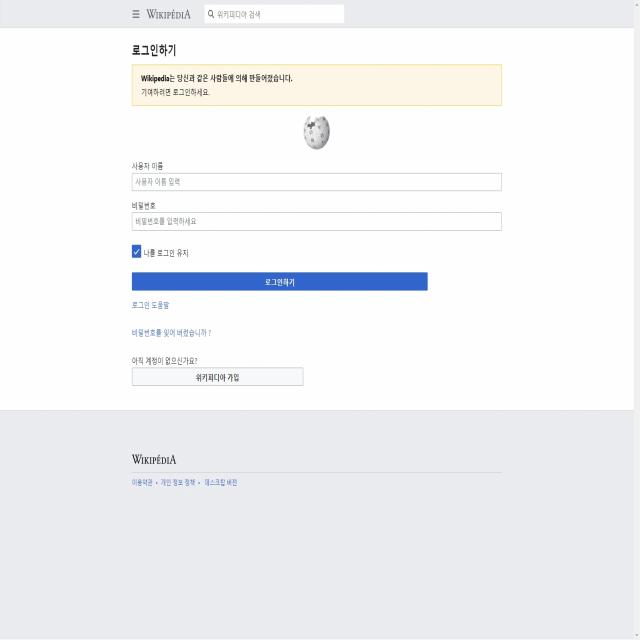search: (202, 1, 346, 26)
